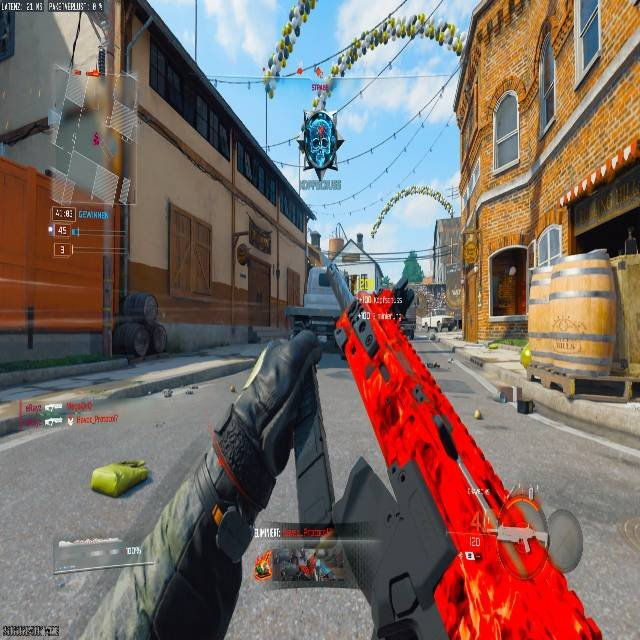player: (309, 233, 379, 328), (295, 104, 343, 186), (393, 282, 419, 342)
